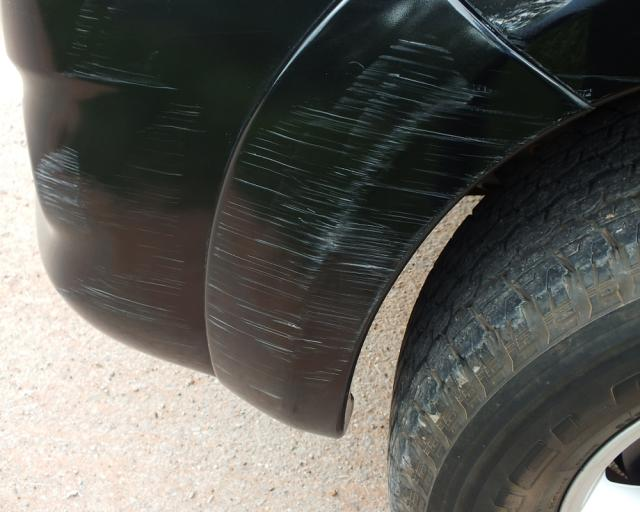scratch: (207, 31, 584, 401), (32, 0, 211, 343)
